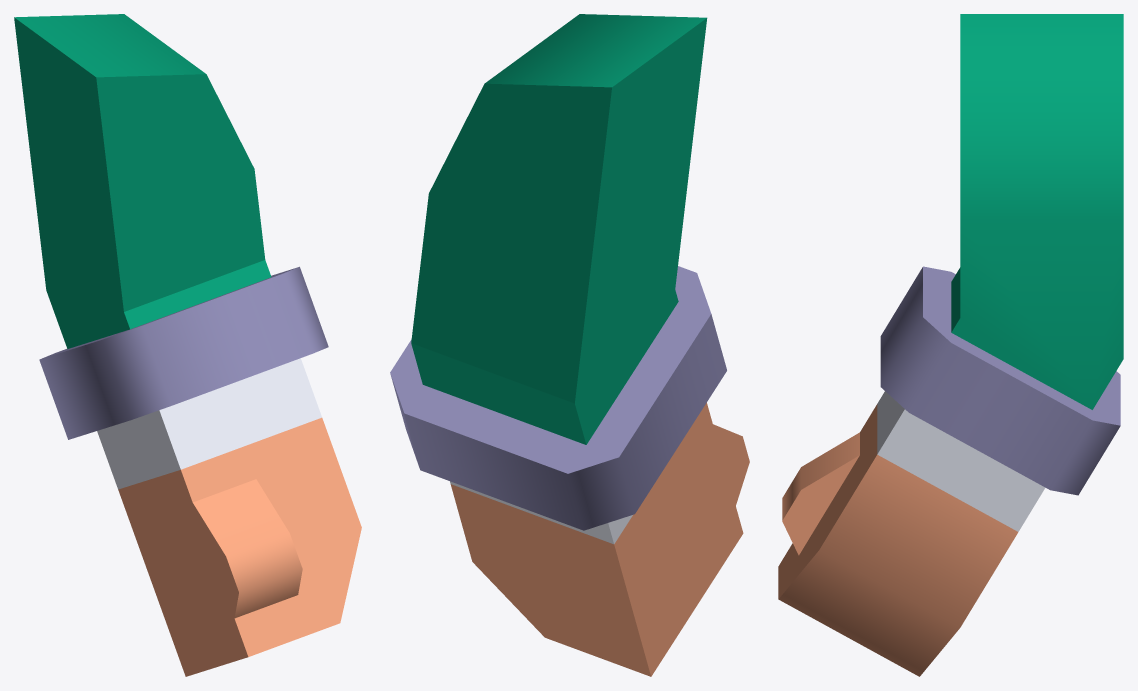
File: hand.obj
3 renders of one model, left to right at view 1: azimuth 30°, elevation 25°; view 2: azimuth 150°, elevation 25°; view 3: azimuth 270°, elevation 25°, orthographic. The views are drawn at different scales.
Parts seen in each view (by area): view 1: mergedBlocks; view 2: mergedBlocks; view 3: mergedBlocks.
Part boxes in pixels (x1,y1,x2,y2): mergedBlocks: (14, 14, 361, 676); mergedBlocks: (390, 14, 749, 676); mergedBlocks: (778, 14, 1123, 676).
Size of the model in its own units: 0.1511 by 0.4036 by 0.2116.
